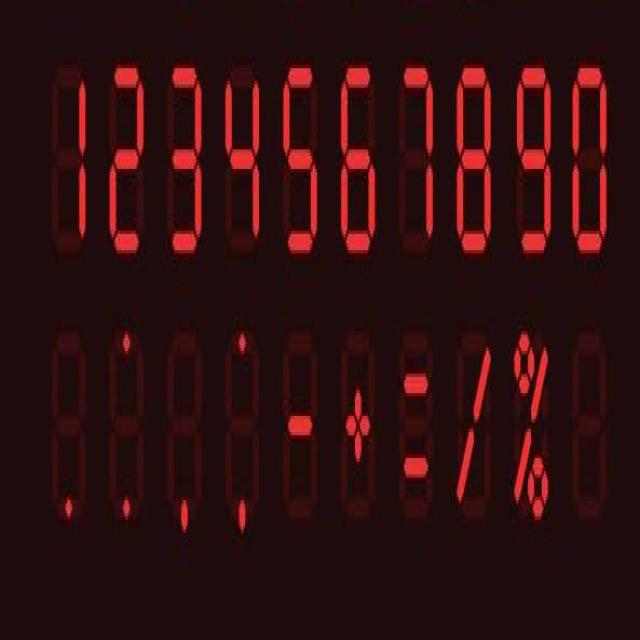-: (402, 449, 430, 489), (403, 362, 431, 402), (286, 411, 316, 442)
.: (62, 484, 74, 527), (237, 497, 249, 534), (180, 494, 190, 536), (121, 489, 132, 521), (237, 330, 249, 358), (122, 332, 132, 354)
0: (571, 64, 607, 250)
1: (70, 66, 91, 248)
2: (104, 56, 146, 260)
3: (168, 58, 208, 251)
4: (220, 70, 263, 242)
5: (281, 59, 320, 257)
6: (338, 60, 382, 258)
7: (403, 55, 437, 250)
8: (451, 58, 496, 261)
9: (516, 65, 554, 254)
